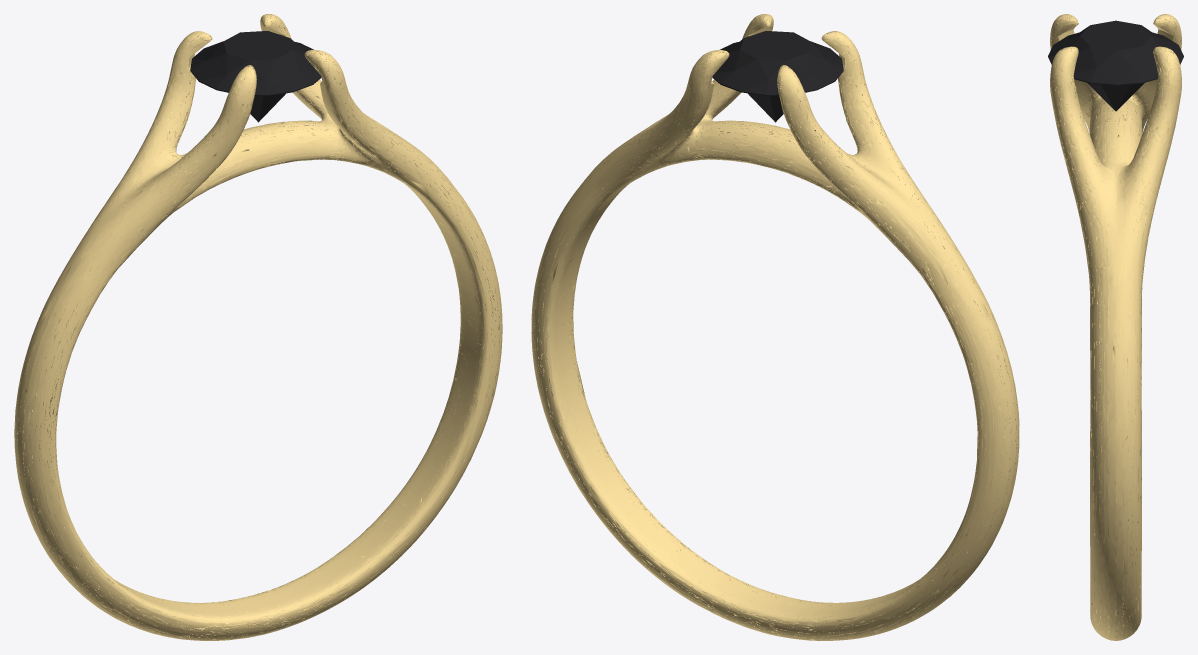
The model's file is ring_round.glb.
The picture shows the model from 3 angles, left to right: view 1: azimuth 30°, elevation 25°; view 2: azimuth 150°, elevation 25°; view 3: azimuth 270°, elevation 25°; orthographic projection.
Parts seen in each view (by area): view 1: Band, Diamond; view 2: Band, Diamond; view 3: Band, Diamond.
Part boxes in pixels (left/top/right/bottom): Band: left=14, top=14, right=502, bottom=640; Diamond: left=190, top=31, right=321, bottom=122; Band: left=531, top=14, right=1019, bottom=640; Diamond: left=712, top=31, right=843, bottom=122; Band: left=1050, top=14, right=1181, bottom=640; Diamond: left=1048, top=20, right=1183, bottom=111.
Size of the model in its own units: 20.18 by 23.68 by 5.
